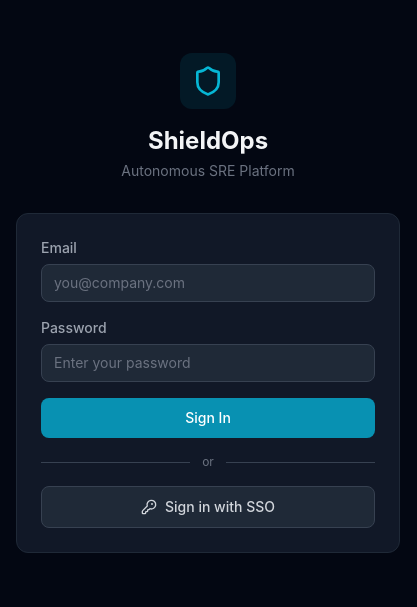
Login › shows generic error for unexpected errors
Type "test@test.com" into the field labelled "Email" at (208,283), box 41,264 -> 375,302
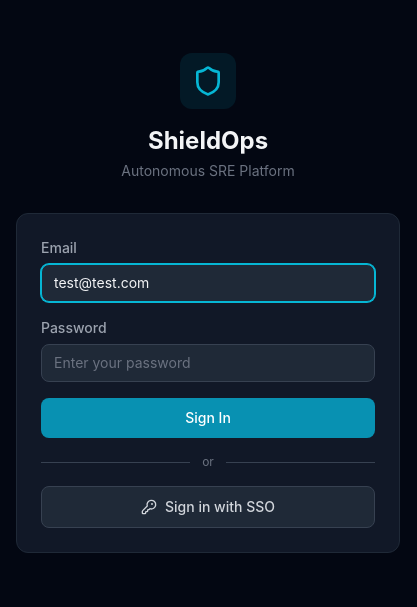
Type "pass" into the password field labelled "Password" at (208,363), box 41,344 -> 375,382
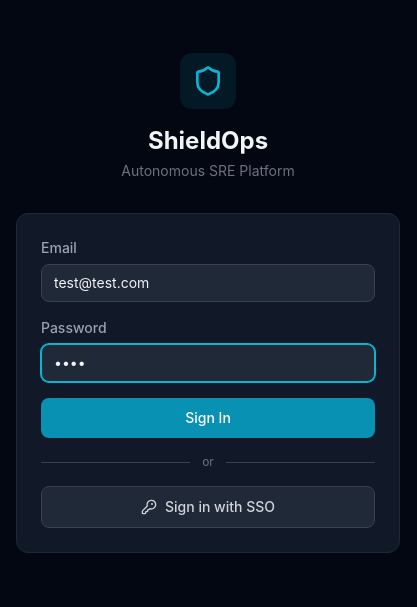
Click the button "Sign In" at (208,418), box 41,398 -> 375,438
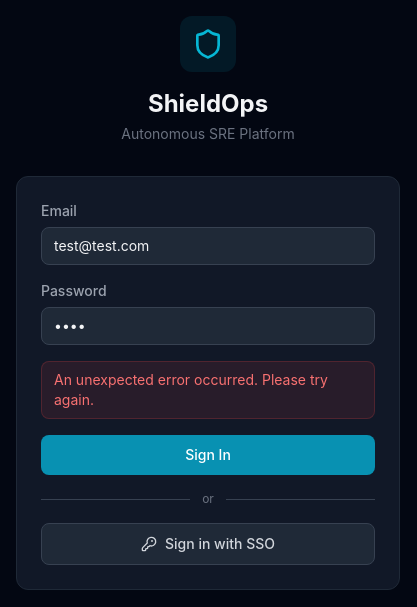
Check: the text "An unexpected error occurred. Please try again." is shown, box 41,361 -> 375,419
